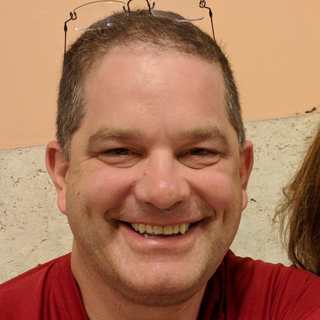eye: (92, 141, 143, 164), (177, 141, 226, 164)
